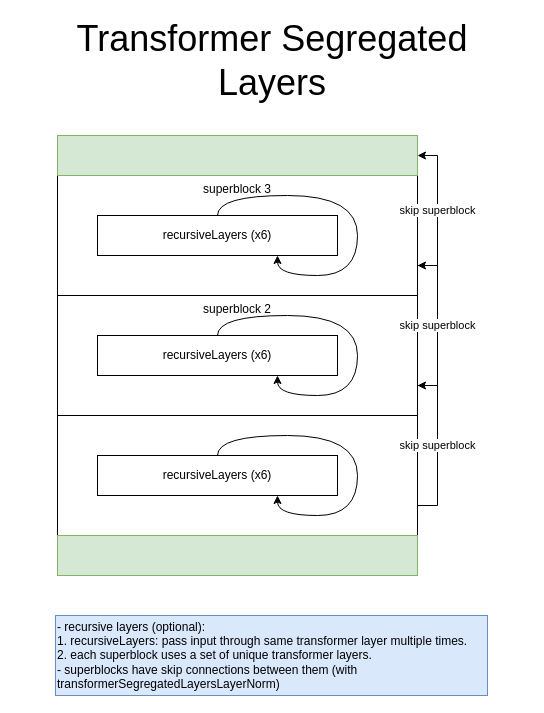
Image size: 544x713. Some labels were removed from this diagram. The shapes that lost their labels are listed below. From the top down, each one's box as (x1, y1, x2, y2) in pixels, then its label:
(56, 134, 418, 176): transformer head
(56, 414, 418, 536): superblock 1
(56, 534, 418, 576): transformer input
